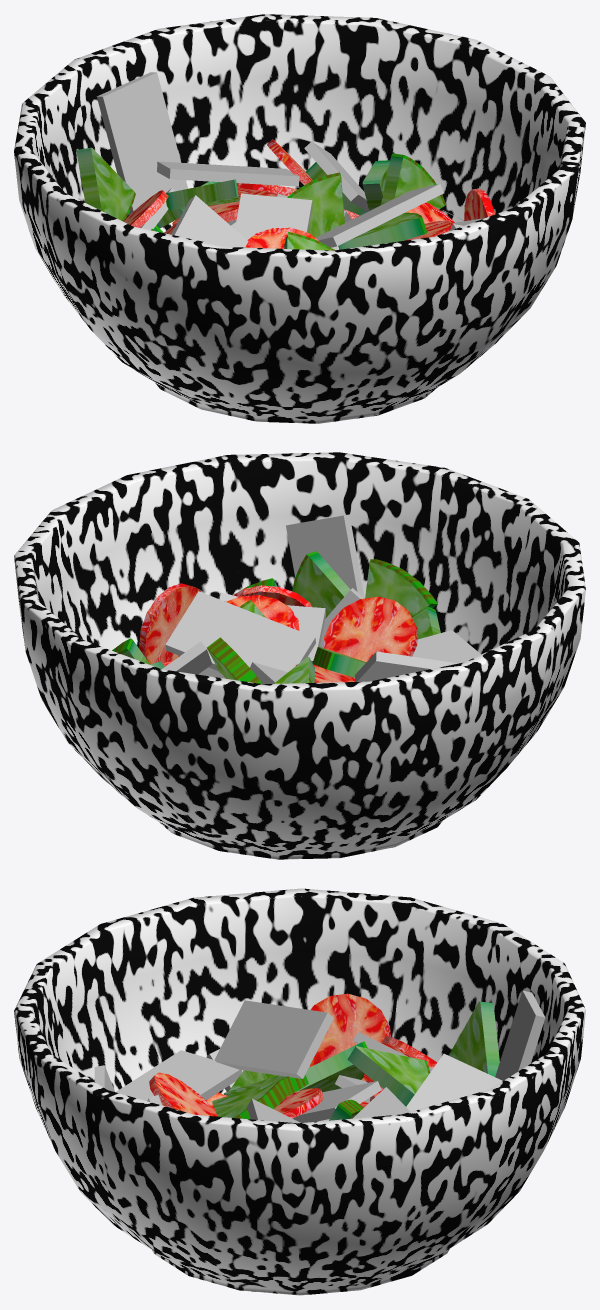
Rendered from SaladBowl.fbx.
The picture shows the model from 3 angles, top to bottom: view 1: azimuth 30°, elevation 25°; view 2: azimuth 150°, elevation 25°; view 3: azimuth 270°, elevation 25°; orthographic projection.
Parts seen in each view (by area): view 1: Cube.027; view 2: Cube.027; view 3: Cube.027.
Boxes of the visible parts, x1,y1,x2,y2 form: Cube.027: [14, 14, 585, 423]; Cube.027: [14, 452, 585, 859]; Cube.027: [14, 888, 585, 1295].
Bounding box in the file's own units: 200 × 85.54 × 200.
